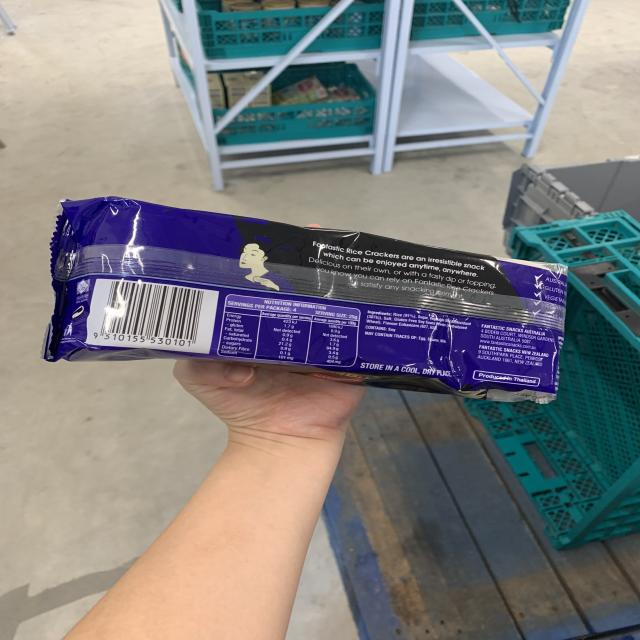object_name: (70, 206, 542, 395)
